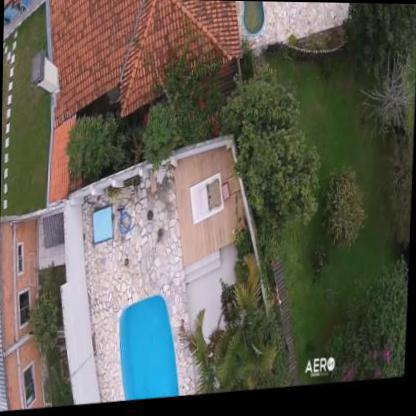agua: (236, 1, 264, 42)
